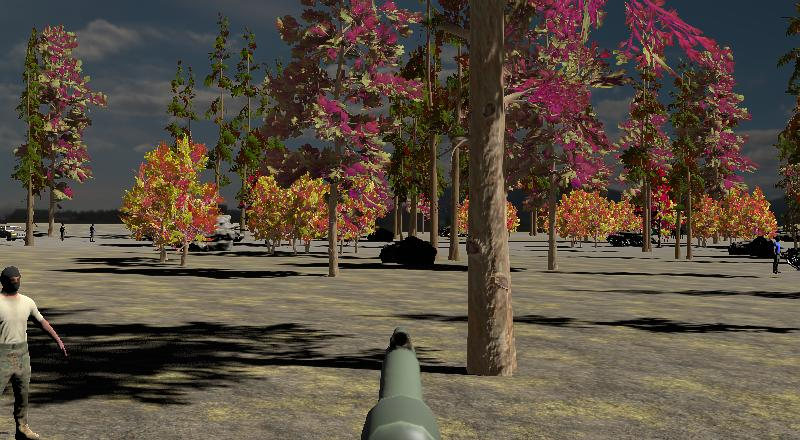Human: (0, 258, 71, 440), (771, 235, 782, 276)
Tank: (605, 228, 656, 248)
car: (0, 221, 22, 244)
